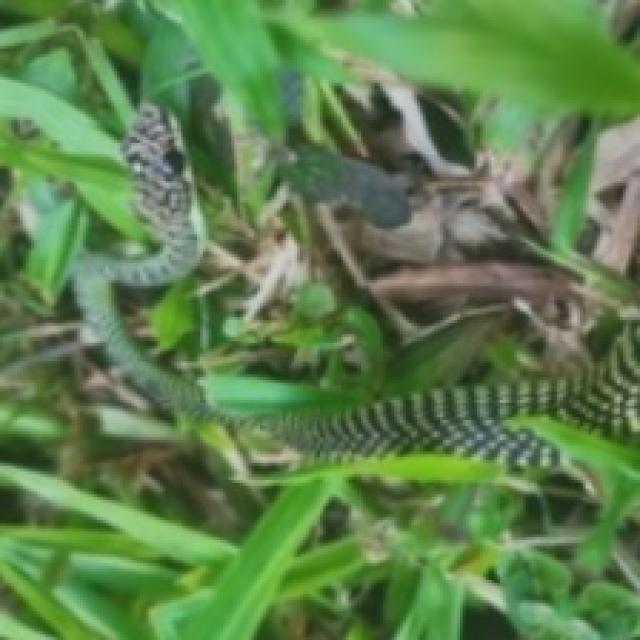paradise tree snake: (74, 114, 637, 480)
